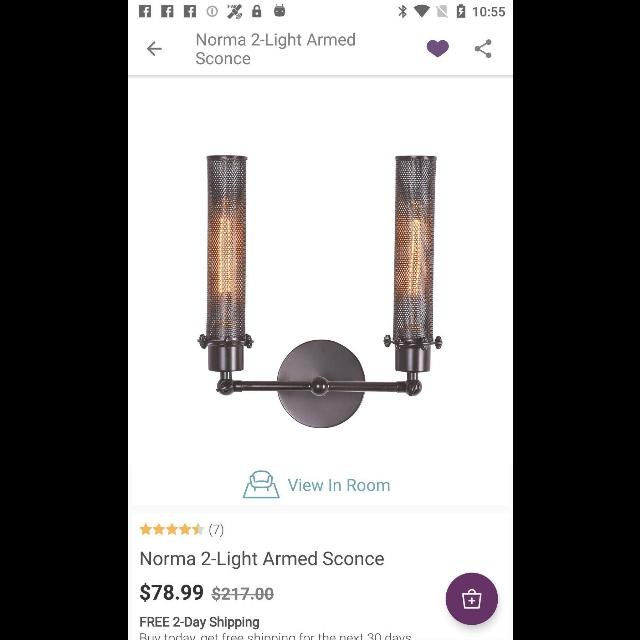icon: (444, 572, 498, 626), (138, 522, 204, 536), (426, 40, 448, 58), (474, 40, 491, 59), (146, 42, 162, 56)
image: (196, 156, 442, 428), (242, 469, 278, 498)
text: (196, 33, 354, 65), (139, 551, 383, 569), (140, 632, 410, 640), (140, 616, 258, 630), (287, 478, 389, 492), (140, 582, 202, 602), (210, 586, 274, 602), (209, 523, 223, 537)
uppertaskbar: (128, 1, 512, 20)
